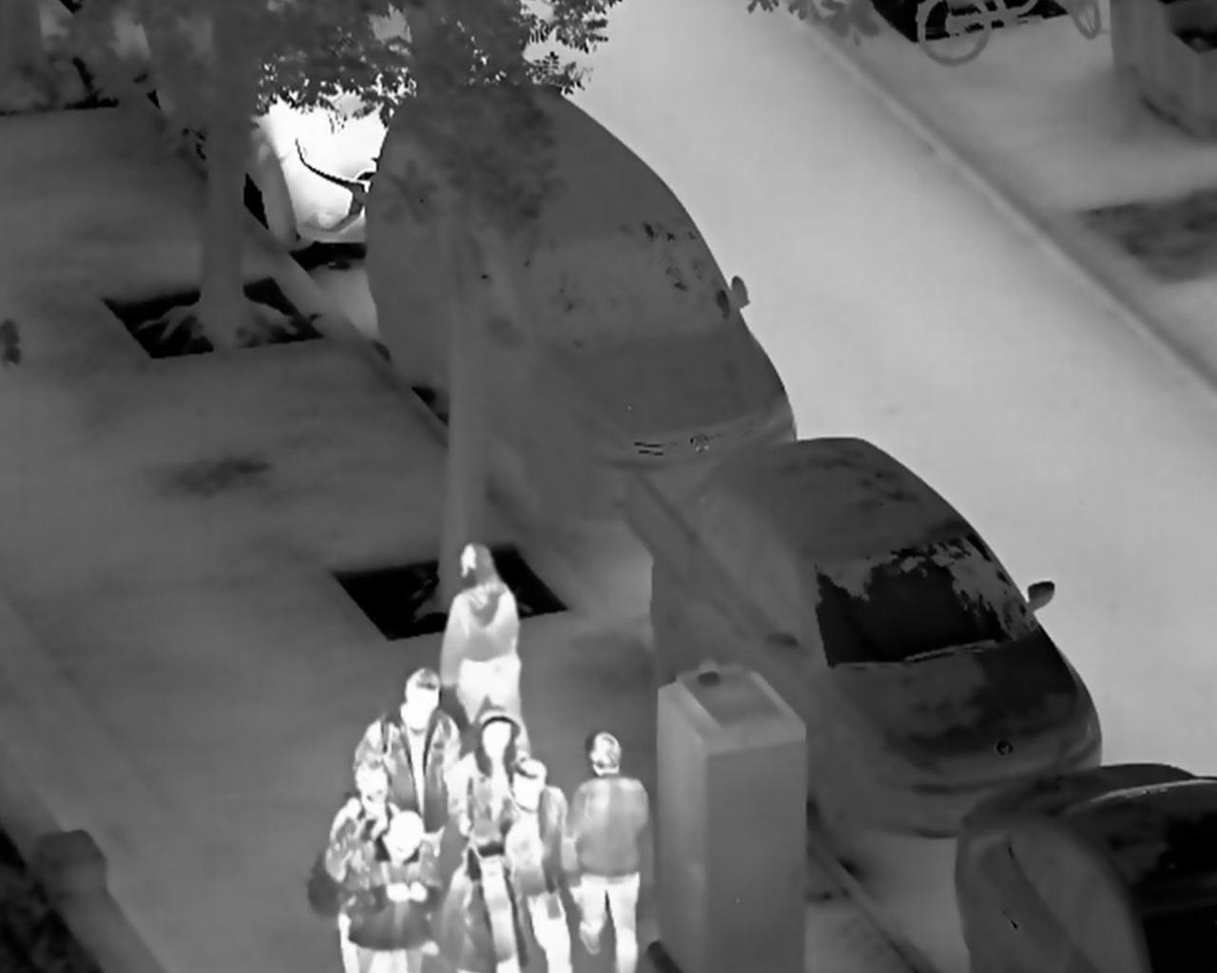person: (435, 536, 536, 754), (349, 665, 460, 860), (566, 730, 655, 973), (327, 806, 443, 973), (322, 767, 423, 943), (492, 761, 570, 973), (437, 818, 528, 973), (449, 706, 534, 866)
